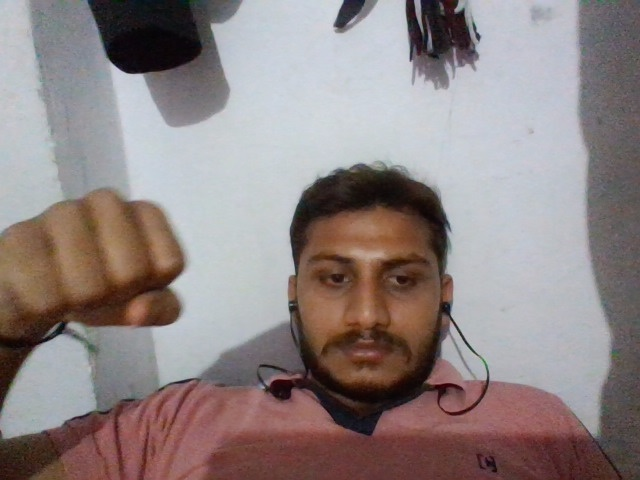Yes: (1, 183, 187, 353)
